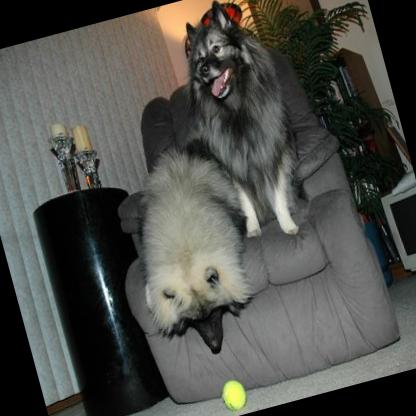keeshond: (107, 132, 279, 368), (169, 0, 315, 247)
